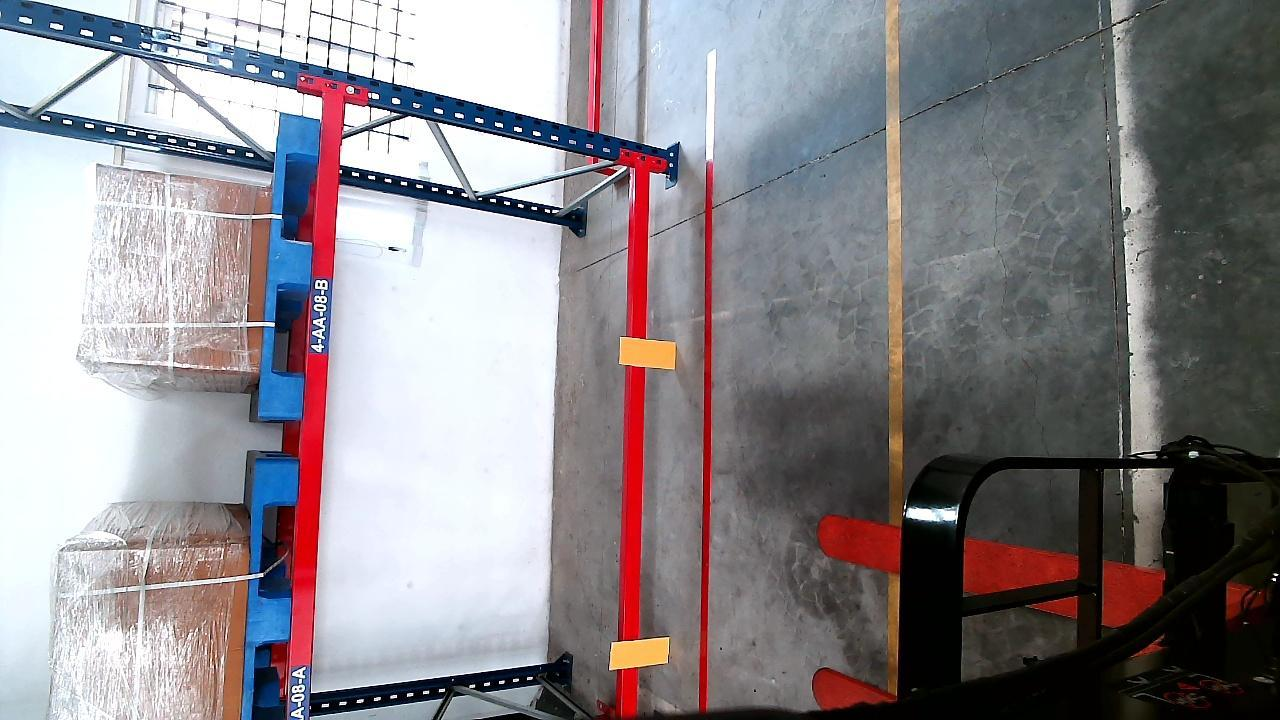red_line: (691, 155, 720, 709)
yellow_line: (883, 0, 910, 509)
